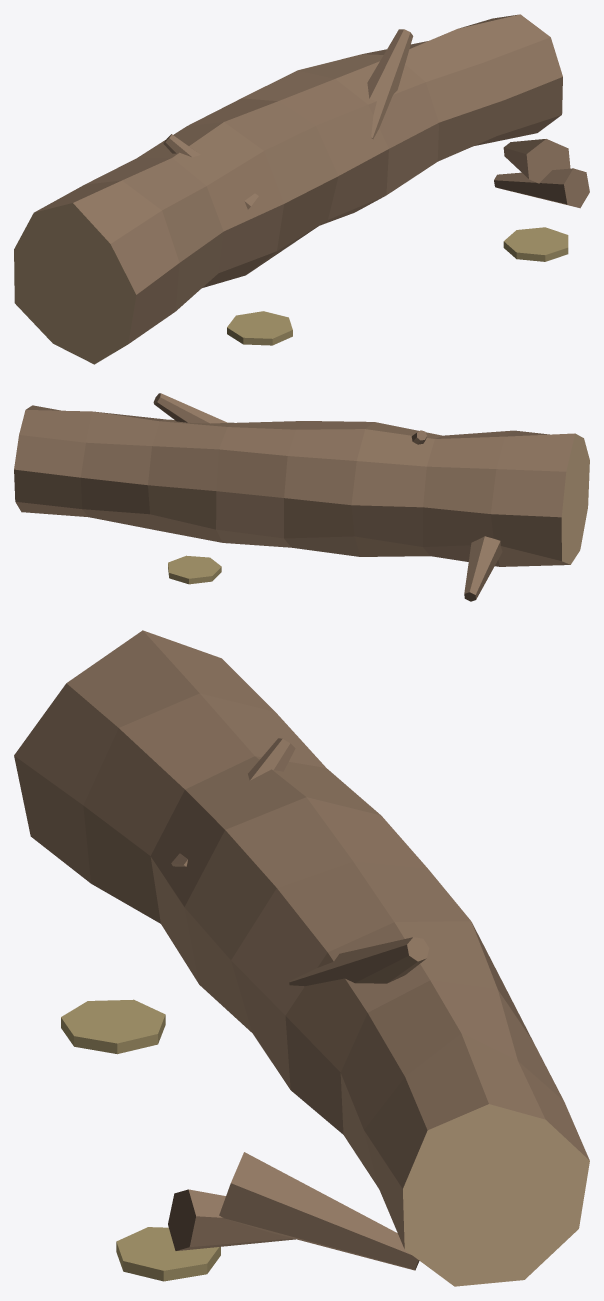
Rendered from 15-Recursos_tronco_caido.glb.
3 renders of one model, top to bottom at view 1: azimuth 30°, elevation 25°; view 2: azimuth 150°, elevation 25°; view 3: azimuth 270°, elevation 25°, orthographic. The views are drawn at different scales.
Parts seen in each view (by area): view 1: SM_Tronco_Caido, SM_Raiz_2, SM_Munon_1, SM_Raiz_1, SM_Hojarasca_2, SM_Hojarasca_1, SM_Munon_2; view 2: SM_Tronco_Caido, SM_Raiz_3, SM_Hojarasca_0, SM_Munon_1; view 3: SM_Tronco_Caido, SM_Raiz_1, SM_Hojarasca_1, SM_Raiz_2, SM_Munon_1, SM_Hojarasca_2, SM_Munon_2.
Part boxes in pixels (<box>): SM_Tronco_Caido: <box>14,14,562,364</box>; SM_Raiz_2: <box>494,168,589,208</box>; SM_Munon_1: <box>367,29,413,138</box>; SM_Raiz_1: <box>503,139,570,183</box>; SM_Hojarasca_2: <box>503,227,568,261</box>; SM_Hojarasca_1: <box>227,311,292,345</box>; SM_Munon_2: <box>163,134,258,209</box>; SM_Tronco_Caido: <box>14,405,589,566</box>; SM_Raiz_3: <box>464,536,502,601</box>; SM_Hojarasca_0: <box>168,555,221,584</box>; SM_Munon_1: <box>153,393,227,423</box>; SM_Tronco_Caido: <box>14,630,589,1286</box>; SM_Raiz_1: <box>219,1152,419,1270</box>; SM_Hojarasca_1: <box>61,999,165,1054</box>; SM_Raiz_2: <box>168,1189,295,1250</box>; SM_Munon_1: <box>289,937,429,986</box>; SM_Hojarasca_2: <box>116,1227,220,1281</box>; SM_Munon_2: <box>171,738,295,866</box>.
Bounding box in the file's own units: 3.23 × 0.9136 × 1.71.
